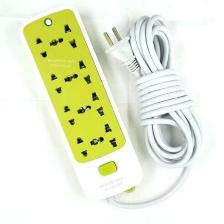three_eye_plug: (17, 2, 145, 205)
